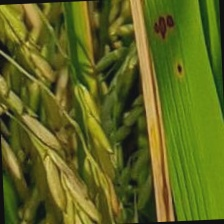Bacterial_Leaf_Blight: (150, 7, 181, 39), (171, 57, 189, 79)
